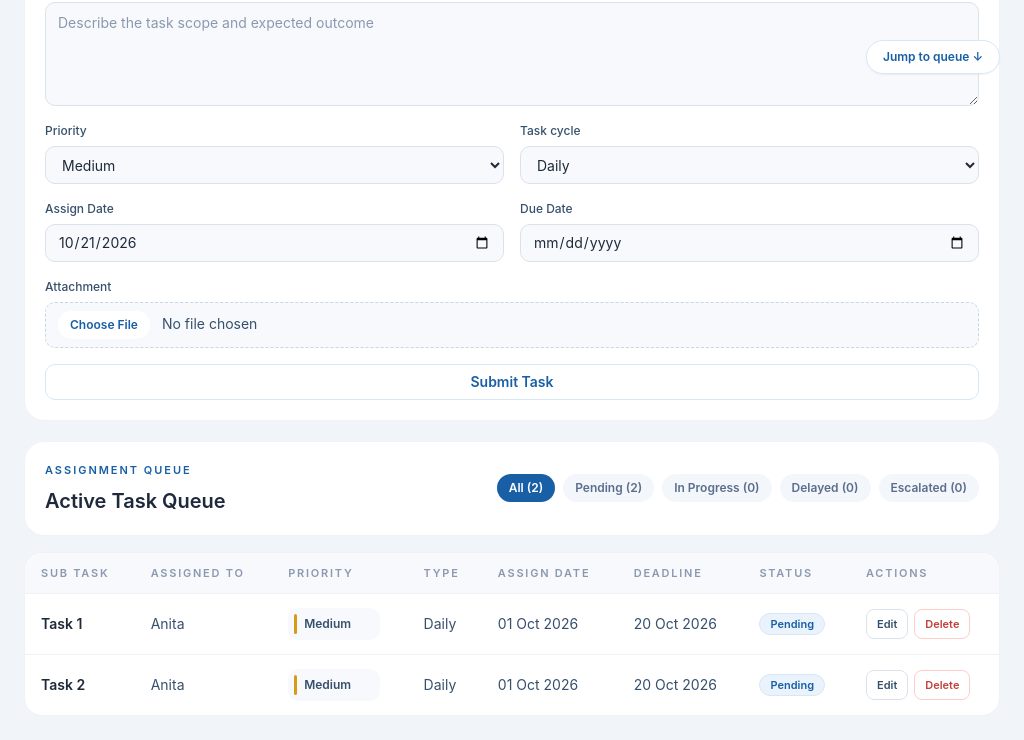
Test case: Assignment Queue › delete uses the shared confirmation dialog and removes the row
(page scrolled)
Expected: the text "Task 1" is shown, [41,615,82,632]
Click the button titled "Delete task" in the row of "Task 1".
click(942, 624)  # box [914,609,970,639]
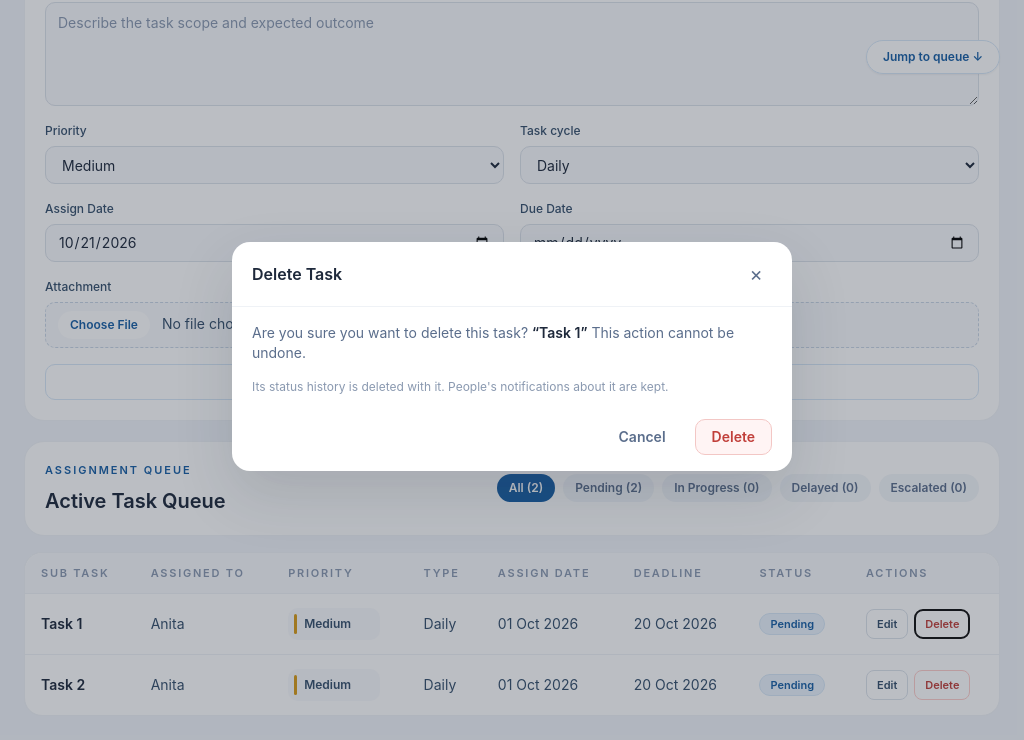
Click the button "Delete".
click(733, 436)  # box [695,418,772,454]
(page scrolled)
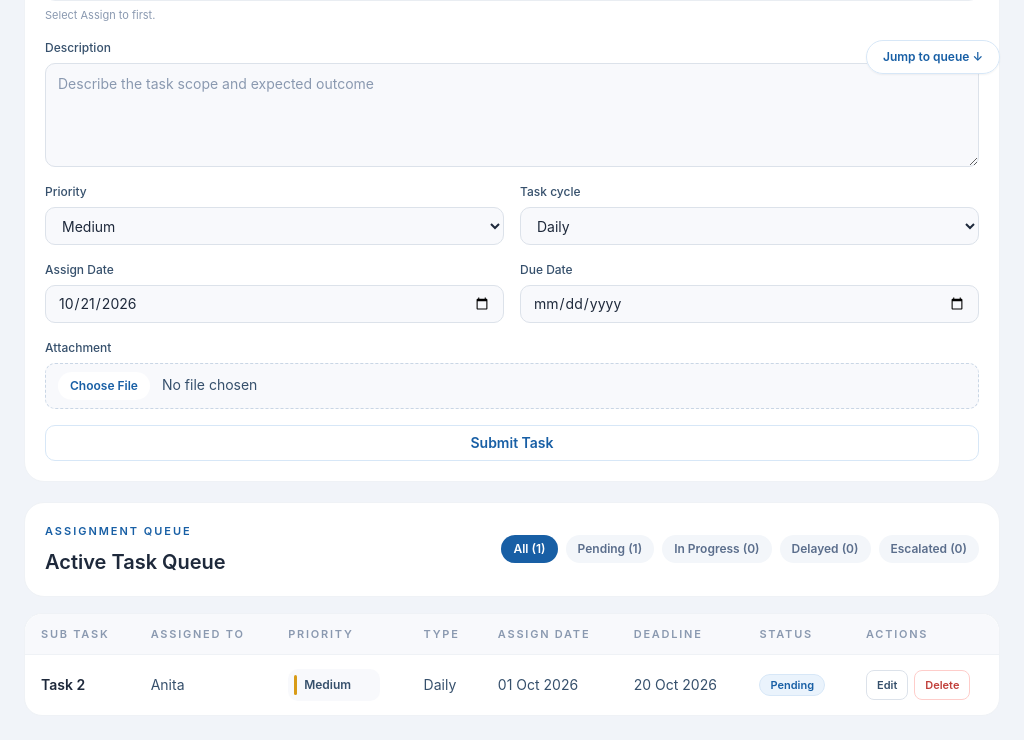
Expected: the text "Task 2" is shown, [41,676,85,693]
Now the text "Task 1" is gone
